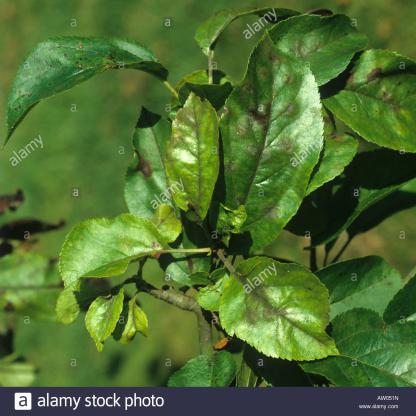apple scab leaf: (219, 30, 323, 264), (219, 245, 342, 380), (53, 200, 216, 279), (251, 2, 368, 101), (328, 41, 416, 161), (165, 95, 235, 238)
